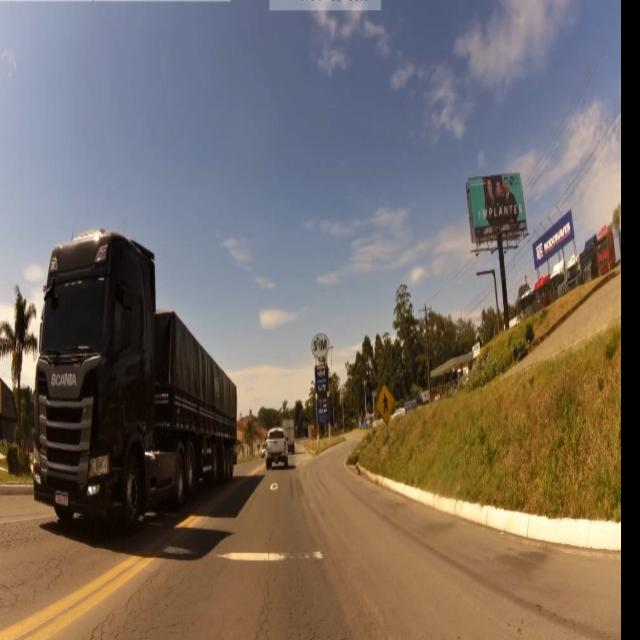A-32a: (376, 386, 395, 427)
